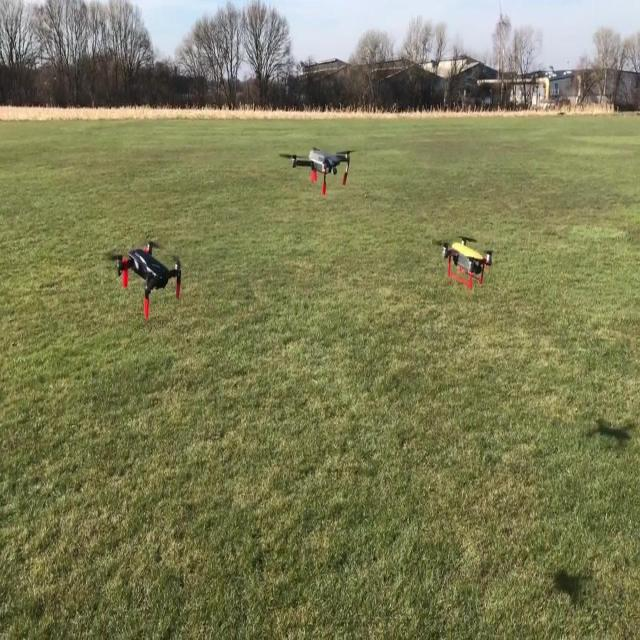drone: (104, 235, 184, 322), (431, 227, 496, 292), (276, 144, 356, 196)
